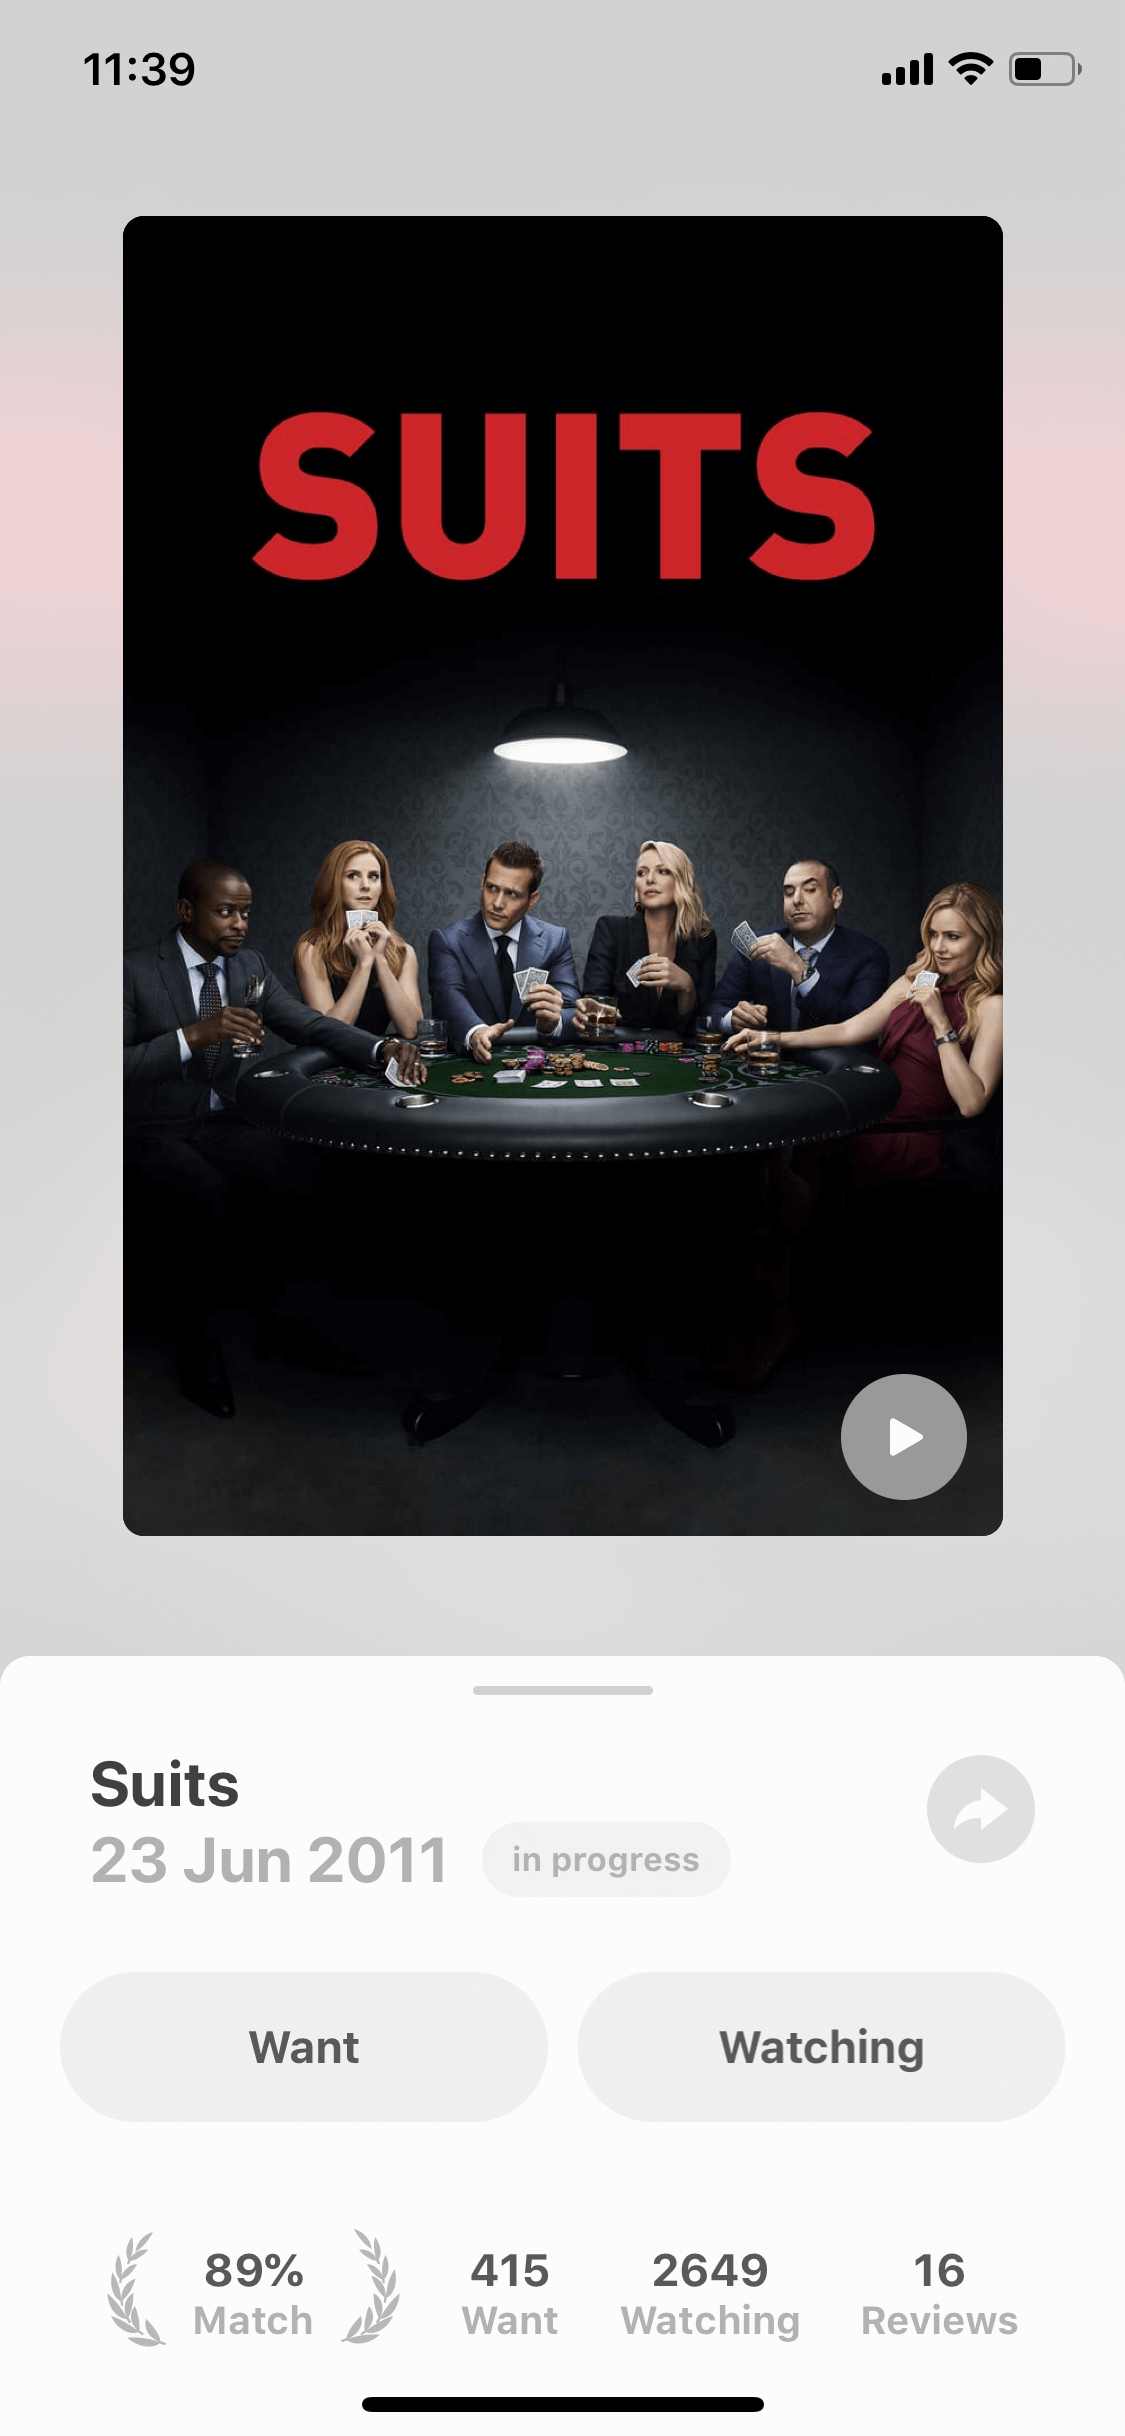Buttons: (562, 1961, 1071, 2147), (45, 1959, 549, 2145), (820, 1345, 987, 1512), (915, 1729, 1049, 1877)
